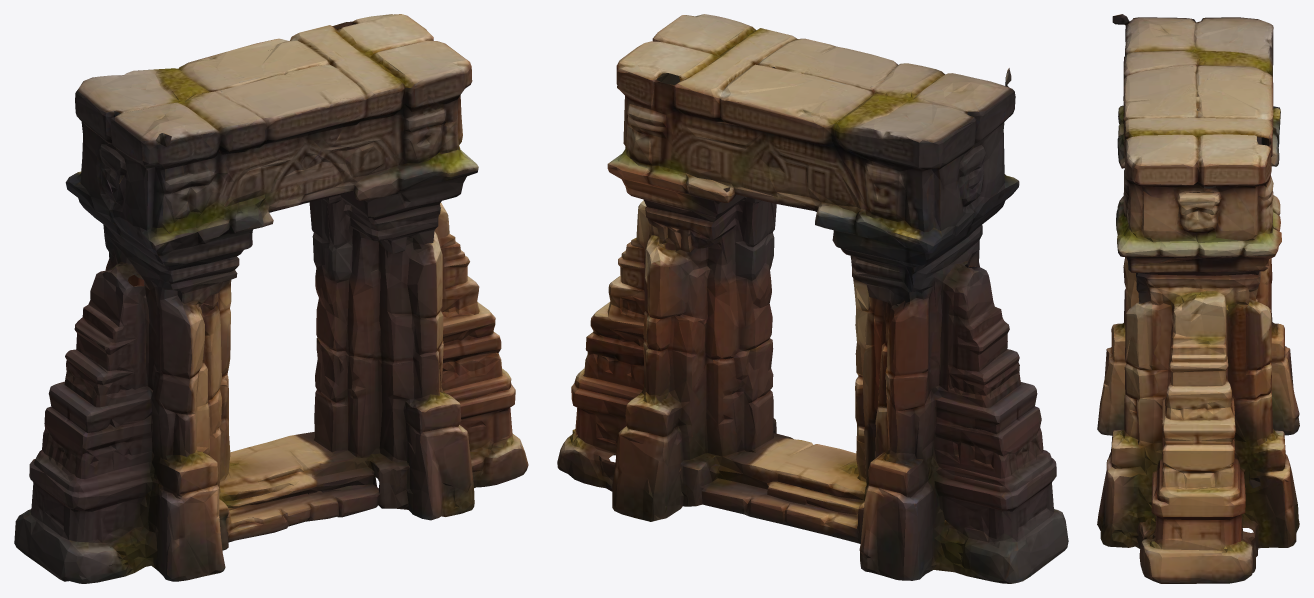
File: gateArch.glb
3 views of the same model, side by side, from view 1: azimuth 30°, elevation 25°; view 2: azimuth 150°, elevation 25°; view 3: azimuth 270°, elevation 25° (orthographic). The views are drawn at different scales.
Parts seen in each view (by area): view 1: world; view 2: world; view 3: world.
Part boxes in pixels (x1,y1,x2,y2): world: (14,14,528,583); world: (557,14,1068,583); world: (1097,14,1299,583).
Size of the model in its own units: 0.9974 by 0.9111 by 0.4176.
1 material, 1 textured.
